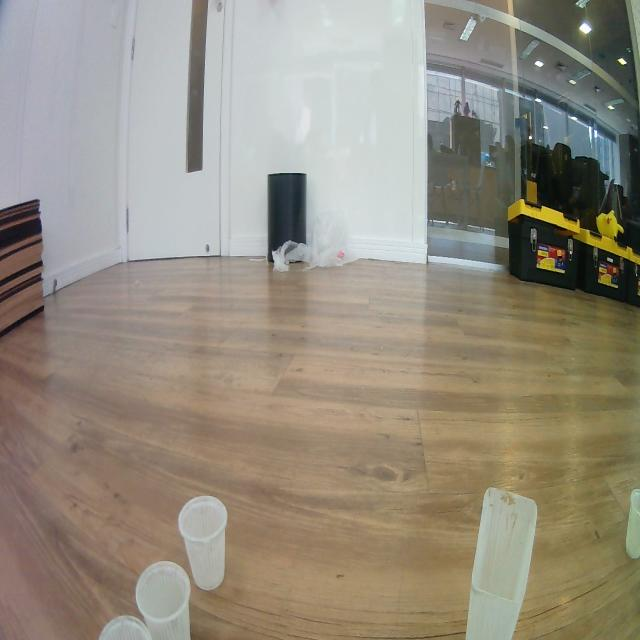erva_daninha: (465, 486, 538, 640)
planta: (178, 494, 228, 592), (135, 560, 192, 640), (97, 614, 152, 640), (625, 488, 640, 560)
